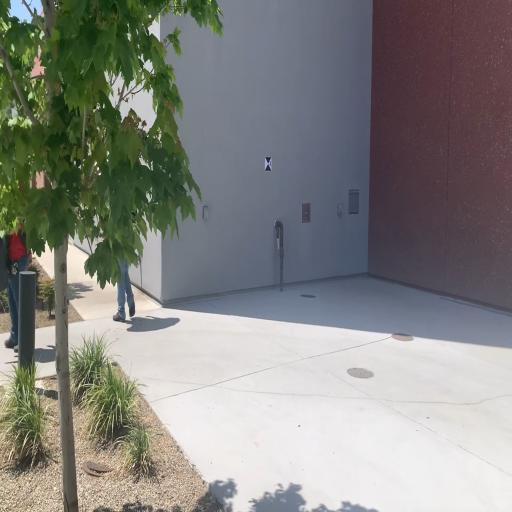target3: (265, 156, 272, 172)
